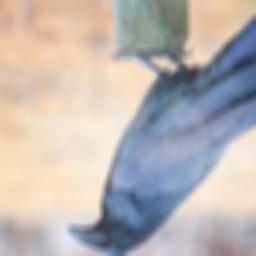Crow: (63, 0, 256, 256)
